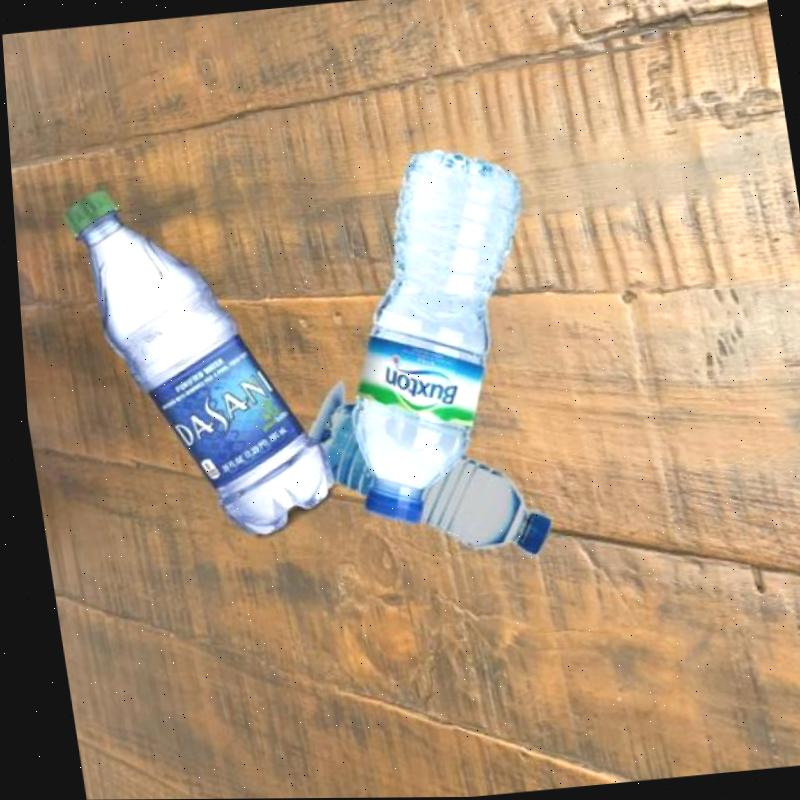botella: (54, 166, 327, 552), (308, 144, 565, 527), (305, 388, 553, 569)
